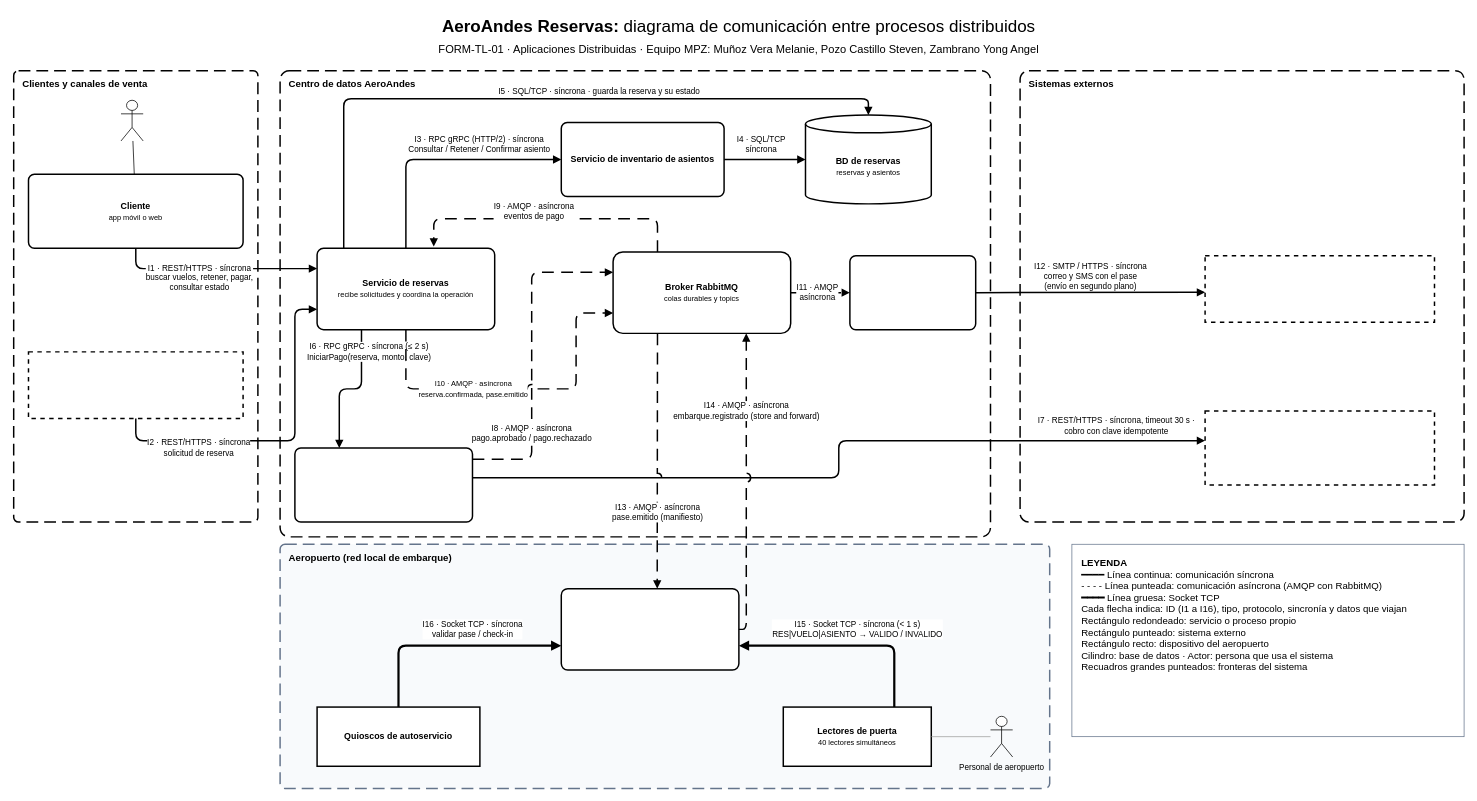
The diagram is 1477 pixels wide and 801 high, and some of its shapes have lost their labels. The centre of each missing label's shape, as x and y in pixels:
Agencia de viajes sistema propio de la agencia: the point at 135,385
Pasajero: the point at 131,120
Pasarela de pagos puede tardar hasta 30 s (R4): the point at 1319,447
Proveedor de correo y SMS: the point at 1319,289
Servicio de notificaciones confirmación y pase de abordar: the point at 912,292
Servicio de pagos habla con la pasarela externa: the point at 383,484
Servidor de embarque copia local del manifiesto del vuelo: the point at 649,629
